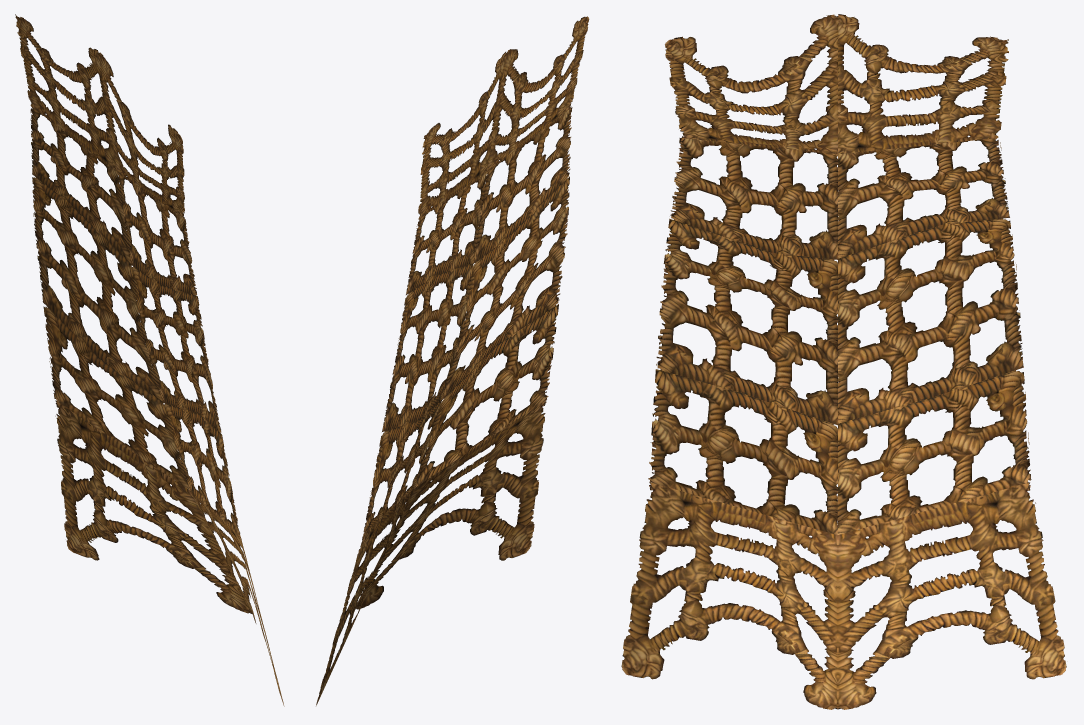
Rendered from deadminecargonetlarge.obj.
3 renders of one model, left to right at view 1: azimuth 30°, elevation 25°; view 2: azimuth 150°, elevation 25°; view 3: azimuth 270°, elevation 25°, orthographic. The views are drawn at different scales.
Visible parts, largest first — view 1: deadminecargonetlarge; view 2: deadminecargonetlarge; view 3: deadminecargonetlarge.
Boxes of the visible parts, <box> form: deadminecargonetlarge: <box>15,14,284,706</box>; deadminecargonetlarge: <box>316,16,589,705</box>; deadminecargonetlarge: <box>621,14,1066,709</box>.
Bounding box in the file's own units: 2.31 × 8.61 × 5.68.
Materials: 1 (1 with a texture image).
